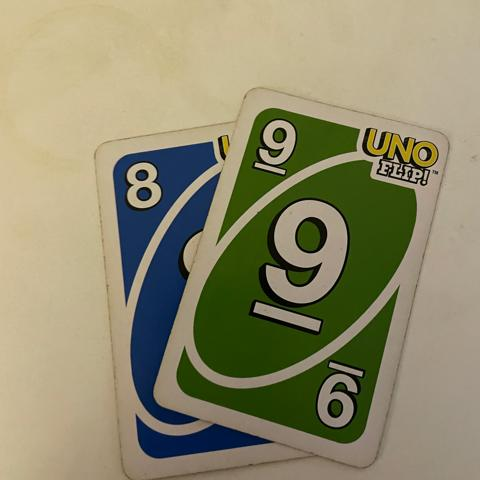lblue-8: (107, 150, 183, 225)
lgreen-9: (248, 107, 304, 187)
